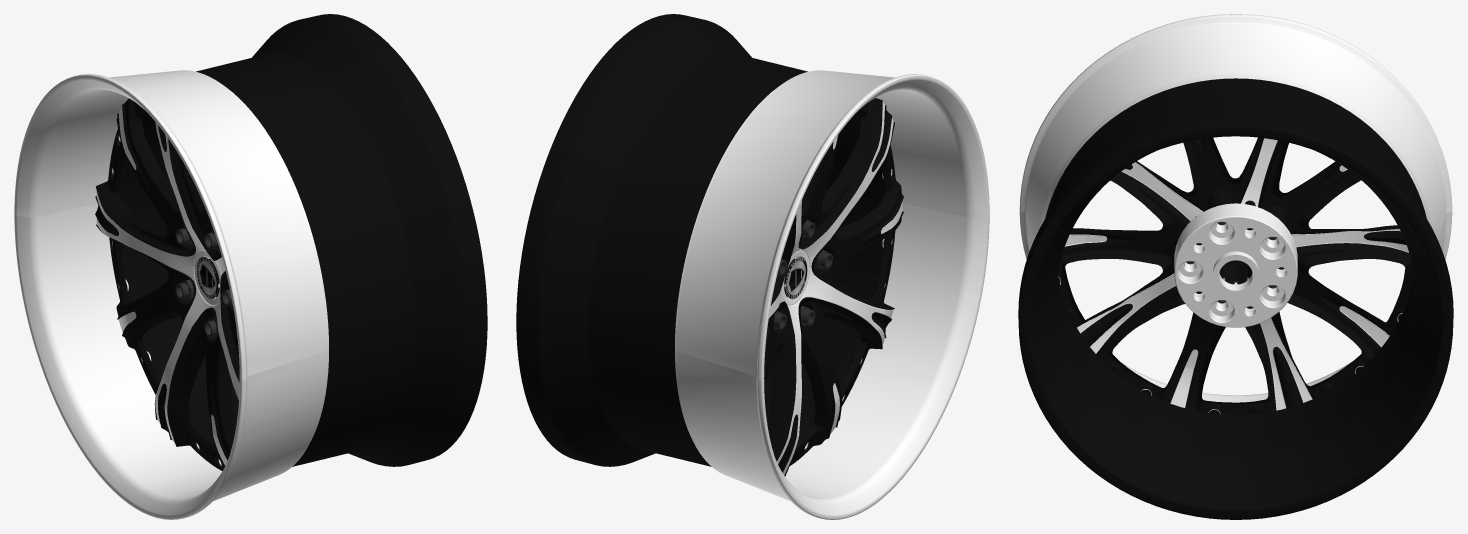
Rendered from wheel.glb.
3 renders of one model, left to right at view 1: azimuth 30°, elevation 25°; view 2: azimuth 150°, elevation 25°; view 3: azimuth 270°, elevation 25°, orthographic. The views are drawn at different scales.
Parts seen in each view (by area): view 1: Volk_TE37_Wheel; view 2: Volk_TE37_Wheel; view 3: Volk_TE37_Wheel.
Part boxes in pixels (x1,y1,x2,y2): Volk_TE37_Wheel: (14, 14, 487, 519); Volk_TE37_Wheel: (516, 14, 989, 519); Volk_TE37_Wheel: (1018, 14, 1453, 519).
Bounding box in the file's own units: 0.2825 × 0.4568 × 0.457.
4 materials, 2 textured.
